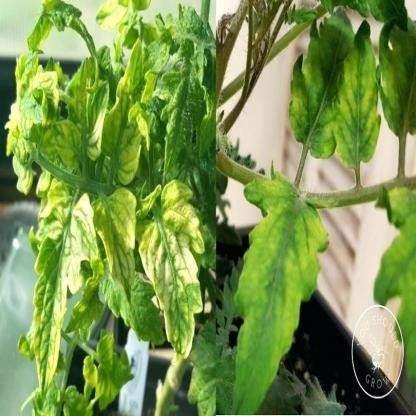Tomato leaf: (226, 161, 333, 408), (28, 178, 100, 394), (140, 182, 203, 367), (289, 12, 359, 176), (90, 192, 148, 320), (334, 26, 379, 174), (105, 50, 147, 202), (54, 68, 108, 178), (82, 336, 136, 410)
